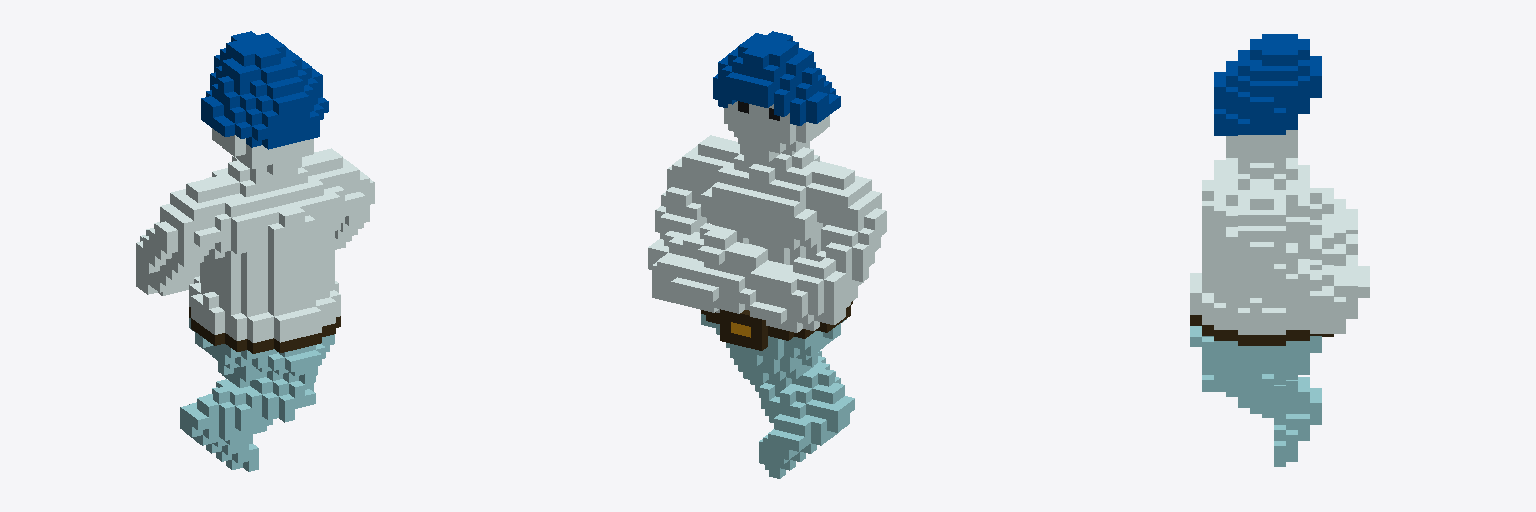
The picture shows the model from 3 angles: view 1: azimuth 30°, elevation 25°; view 2: azimuth 150°, elevation 25°; view 3: azimuth 270°, elevation 25°; orthographic projection.
Size of the model in its own units: 20 by 39 by 15.
Materials: 1 (1 with a texture image).